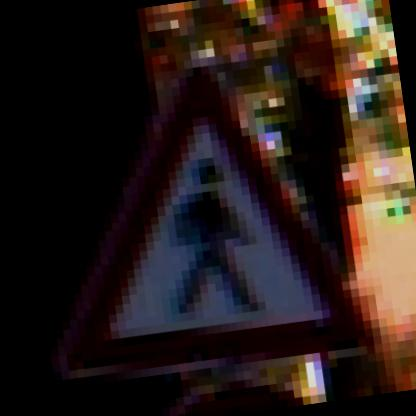crosswalk: (14, 43, 368, 396)
